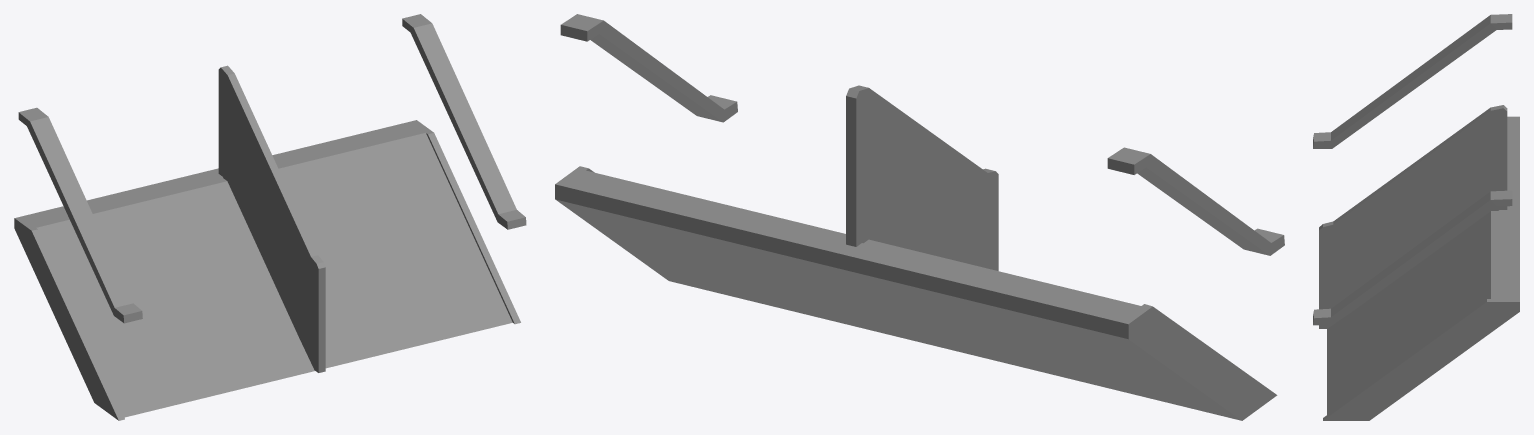
File: SW_ENV_StationStair_Short_FF_Collision.fbx
3 renders of one model, left to right at view 1: azimuth 30°, elevation 25°; view 2: azimuth 150°, elevation 25°; view 3: azimuth 270°, elevation 25°, orthographic. The views are drawn at different scales.
Visible parts, largest first — view 1: SW_ENV_StationStair_Short_FF_Collision; view 2: SW_ENV_StationStair_Short_FF_Collision; view 3: SW_ENV_StationStair_Short_FF_Collision.
Boxes of the visible parts, bbox=[...] form: SW_ENV_StationStair_Short_FF_Collision: bbox=[14, 14, 526, 420]; SW_ENV_StationStair_Short_FF_Collision: bbox=[555, 14, 1284, 420]; SW_ENV_StationStair_Short_FF_Collision: bbox=[1313, 14, 1519, 420].
Size of the model in its own units: 4 by 2.24 by 1.89.
